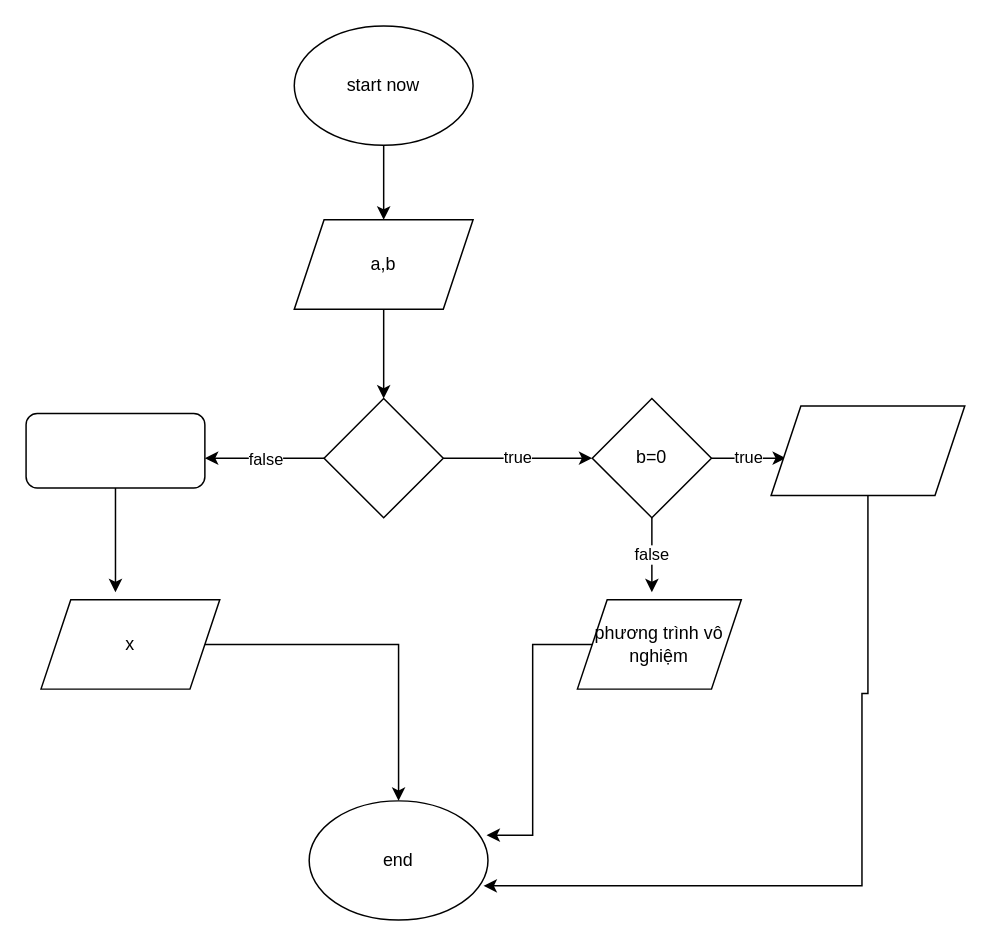
This 991x946 diagram has some shape labels left out. Each missing label, with the centre of its shape:
a=0: (x=383, y=457)
phương trình vô số nghiệm: (x=867, y=450)
x=-b/a: (x=115, y=450)
